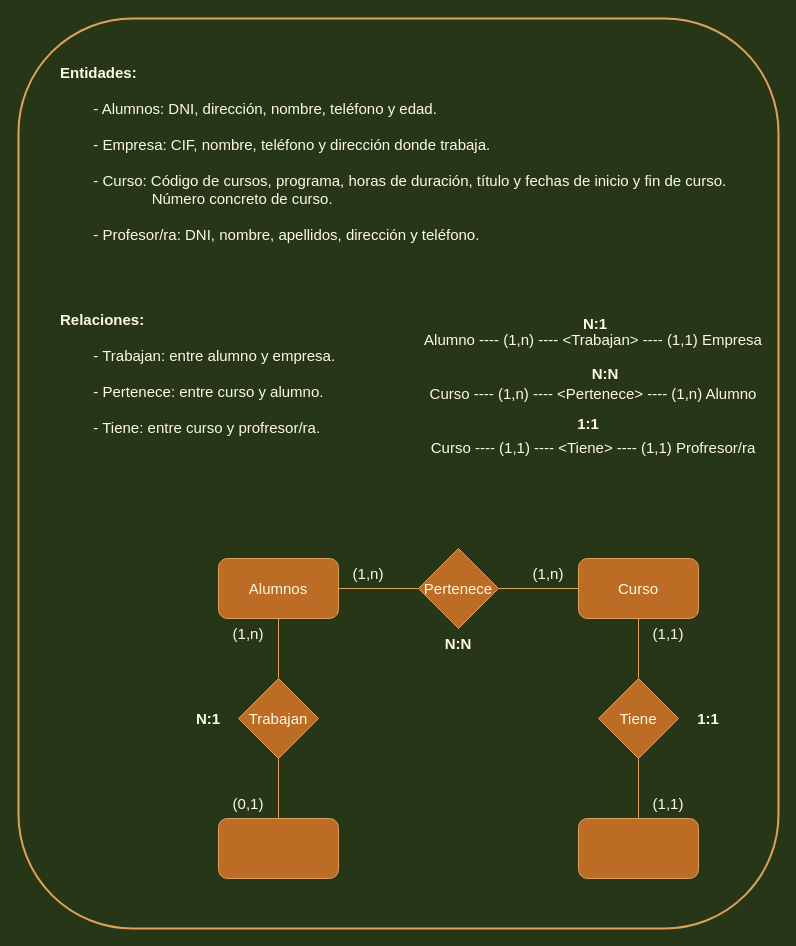
Some shapes in this 796 by 946 pixel diagram are drawn without their labels. The shapes that lost their labels are listed below. From the top down, each one's centre as x and y in pixels, then its label:
At [278,848]: "Empresa".
At [638,848]: "Profesor/ra".
